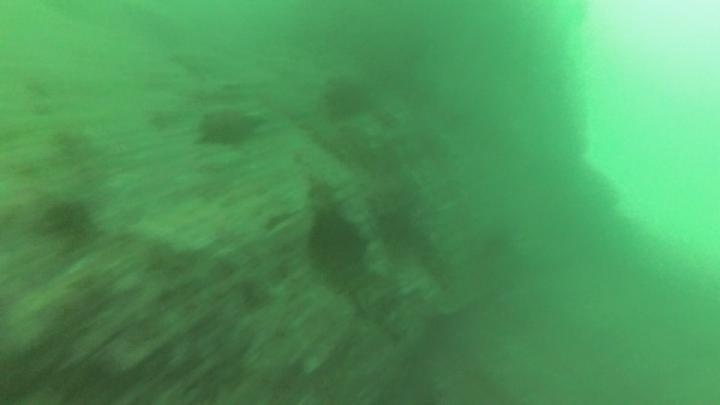echinus: (305, 207, 368, 277), (41, 197, 95, 242), (321, 76, 371, 123), (372, 206, 416, 250)
starfish: (194, 103, 268, 150)
